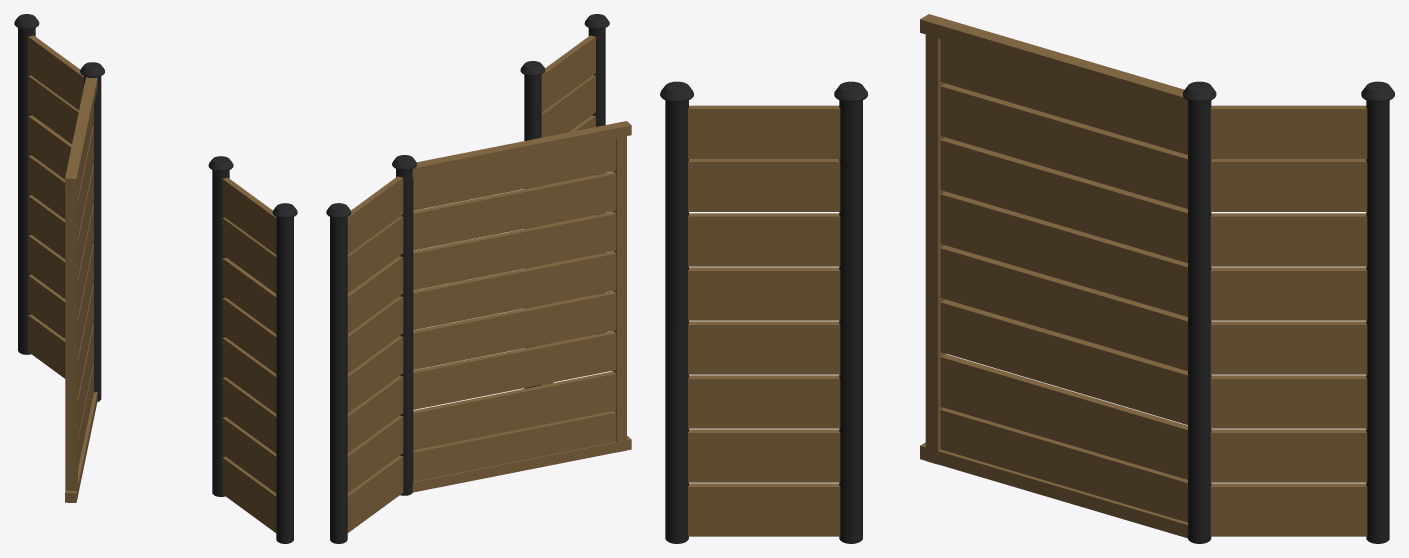
File: Gate.fbx
3 views of the same model, side by side, from view 1: azimuth 30°, elevation 25°; view 2: azimuth 150°, elevation 25°; view 3: azimuth 270°, elevation 25° (orthographic). The views are drawn at different scales.
Parts seen in each view (by area): view 1: Fence2:group5pasted__TallFence_dOOR; view 2: Fence2:group5pasted__TallFence_dOOR; view 3: Fence2:group5pasted__TallFence_dOOR.
Part boxes in pixels (bbox=[...]): Fence2:group5pasted__TallFence_dOOR: bbox=[14, 14, 297, 543]; Fence2:group5pasted__TallFence_dOOR: bbox=[326, 14, 631, 543]; Fence2:group5pasted__TallFence_dOOR: bbox=[660, 14, 1394, 543].
Bounding box in the file's own units: 6.43 × 14.86 × 21.83.
